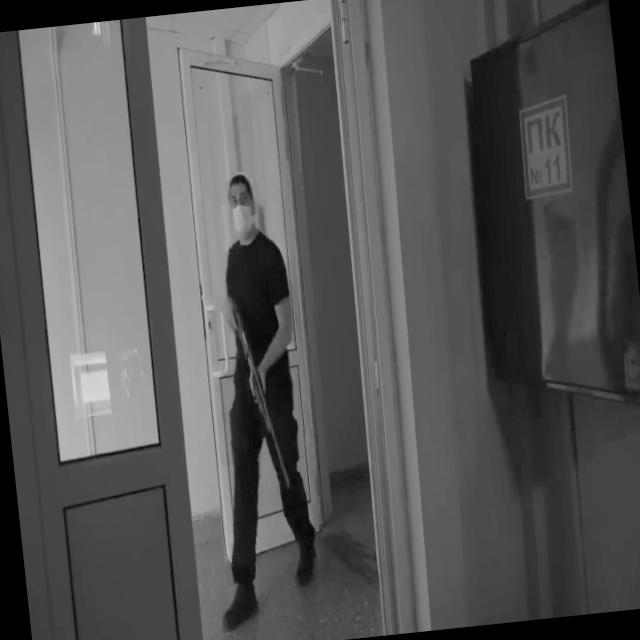gun: (230, 299, 293, 495)
person with a gun: (176, 170, 325, 633)
